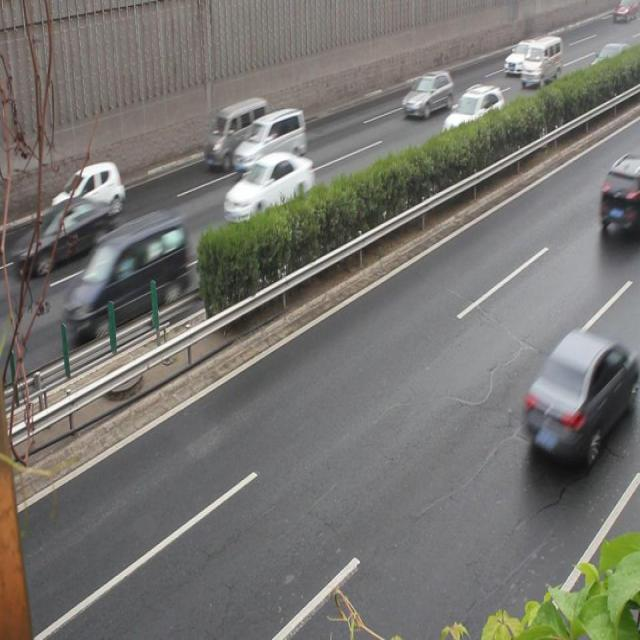car: (519, 324, 631, 458), (22, 194, 115, 270), (222, 148, 314, 219), (49, 158, 124, 219), (438, 83, 503, 145), (402, 69, 452, 117), (501, 38, 537, 73)
